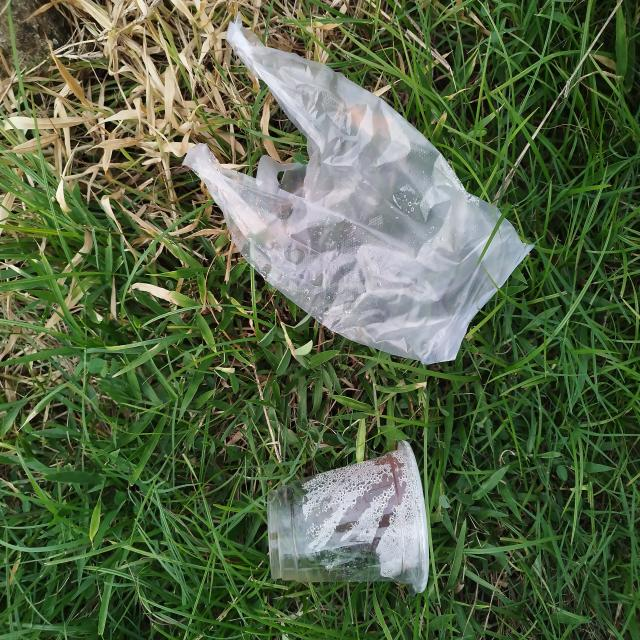bag: (181, 9, 536, 367)
plastic glass: (266, 438, 429, 594)
